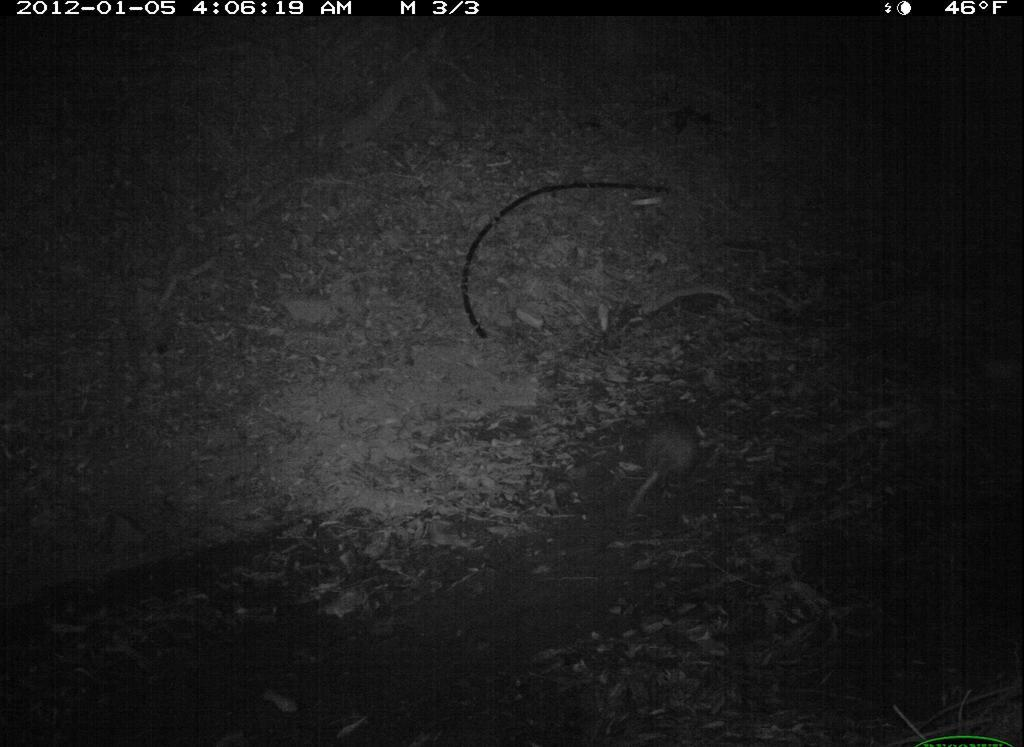opossum: (617, 399, 713, 529)
